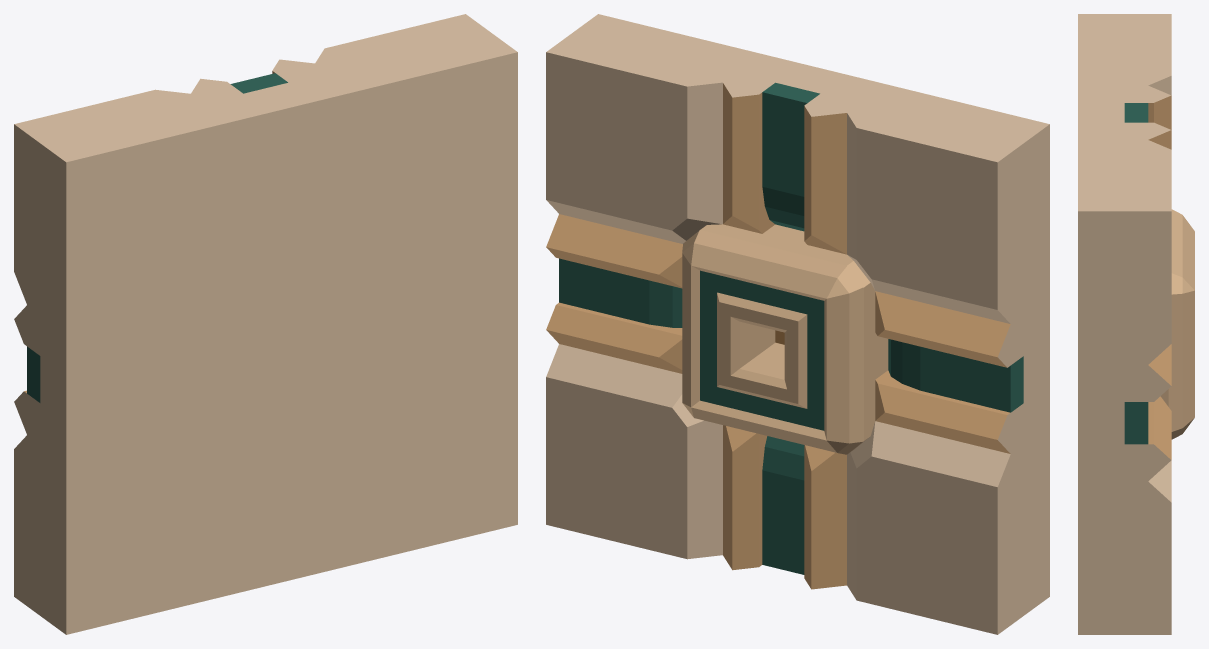
The model's file is Puzzle_Wall_Conduit_Keyhole_Cross.fbx.
3 views of the same model, side by side, from view 1: azimuth 30°, elevation 25°; view 2: azimuth 150°, elevation 25°; view 3: azimuth 270°, elevation 25° (orthographic). The views are drawn at different scales.
Visible parts, largest first — view 1: Sandstone_Trim.Sandstone_Trim.Sandstone_Trim.Sandstone_Trim.; view 2: Sandstone_Trim.Sandstone_Trim.Sandstone_Trim.Sandstone_Trim., Sandstone_5.Sandstone_5.Sandstone_5.Sandstone_5.Sandstone_5., object5, object6, object2, object3, object1, object4; view 3: Sandstone_Trim.Sandstone_Trim.Sandstone_Trim.Sandstone_Trim., object5, Sandstone_5.Sandstone_5.Sandstone_5.Sandstone_5.Sandstone_5., object4, object2.
Boxes of the visible parts, <box> form: Sandstone_Trim.Sandstone_Trim.Sandstone_Trim.Sandstone_Trim.: <box>14,14,517,634</box>; Sandstone_Trim.Sandstone_Trim.Sandstone_Trim.Sandstone_Trim.: <box>546,14,1049,634</box>; Sandstone_5.Sandstone_5.Sandstone_5.Sandstone_5.Sandstone_5.: <box>546,83,1010,589</box>; object5: <box>682,224,888,454</box>; object6: <box>700,270,824,430</box>; object2: <box>762,82,819,231</box>; object3: <box>888,339,1023,412</box>; object1: <box>762,436,804,574</box>; object4: <box>559,258,682,327</box>; Sandstone_Trim.Sandstone_Trim.Sandstone_Trim.Sandstone_Trim.: <box>1078,14,1171,634</box>; object5: <box>1160,209,1194,439</box>; Sandstone_5.Sandstone_5.Sandstone_5.Sandstone_5.Sandstone_5.: <box>1148,95,1171,459</box>; object4: <box>1124,402,1148,444</box>; object2: <box>1124,103,1148,122</box>.
Size of the model in its own units: 1 by 1 by 0.25.
